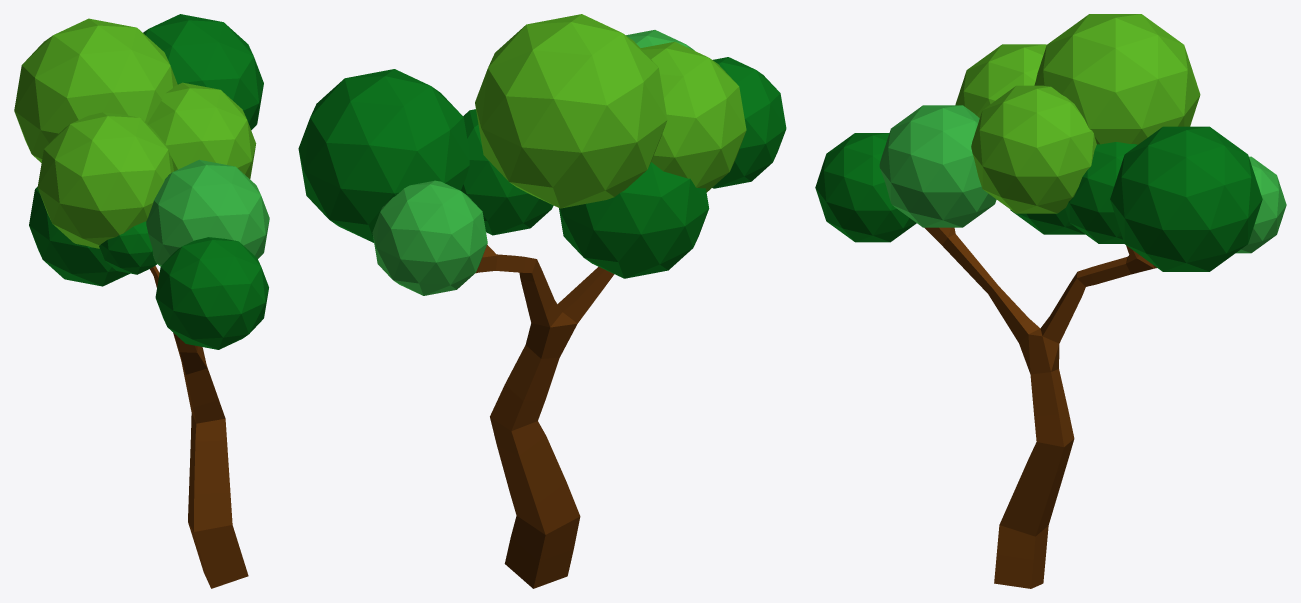
The model's file is tree1.fbx.
3 renders of one model, left to right at view 1: azimuth 30°, elevation 25°; view 2: azimuth 150°, elevation 25°; view 3: azimuth 270°, elevation 25°, orthographic. The views are drawn at different scales.
Visible parts, largest first — view 1: Icosphere.007, Icosphere.005, Icosphere, Cube, Icosphere.004, Icosphere.006, Icosphere.009, Icosphere.008, Icosphere.001; view 2: Icosphere.007, Icosphere.006, Cube, Icosphere.008, Icosphere.002, Icosphere.005, Icosphere, Icosphere.003; view 3: Icosphere.006, Cube, Icosphere.007, Icosphere.009, Icosphere.004, Icosphere, Icosphere.003, Icosphere.005, Icosphere.002, Icosphere.008.
Boxes of the visible parts, box(x1,y1,x2,y2) form: Icosphere.007: box(14, 18, 177, 162); Icosphere.005: box(37, 112, 173, 248); Icosphere: box(155, 237, 268, 349); Cube: box(150, 266, 248, 588); Icosphere.004: box(146, 159, 269, 266); Icosphere.006: box(143, 14, 263, 130); Icosphere.009: box(147, 82, 256, 179); Icosphere.008: box(29, 187, 129, 286); Icosphere.001: box(99, 221, 156, 274); Icosphere.007: box(475, 14, 667, 208); Icosphere.006: box(298, 69, 469, 242); Cube: box(475, 244, 614, 588); Icosphere.008: box(559, 162, 709, 278); Icosphere.002: box(372, 180, 487, 295); Icosphere.005: box(640, 41, 746, 192); Icosphere: box(712, 57, 786, 188); Icosphere.003: box(461, 109, 553, 235); Icosphere.006: box(1110, 126, 1262, 271); Cube: box(924, 227, 1156, 588); Icosphere.007: box(1034, 14, 1200, 144); Icosphere.009: box(971, 85, 1096, 213); Icosphere.004: box(879, 105, 996, 227); Icosphere: box(815, 133, 916, 242); Icosphere.003: box(1065, 142, 1137, 243); Icosphere.005: box(955, 44, 1046, 117); Icosphere.002: box(1236, 156, 1286, 253); Icosphere.008: box(1010, 208, 1085, 234).
Size of the model in its own units: 442 by 794 by 638.
